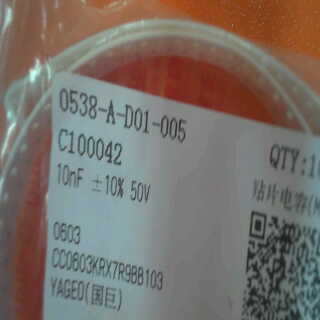10nF: (52, 162, 86, 192)
